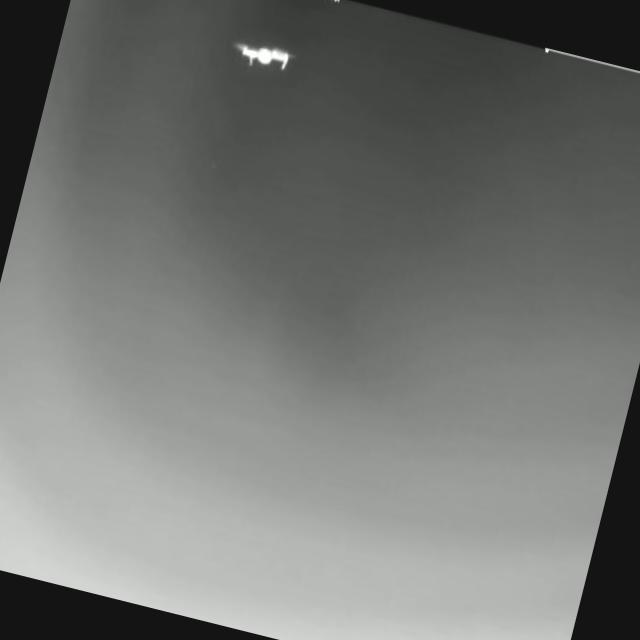DRONE: (230, 36, 298, 75)
